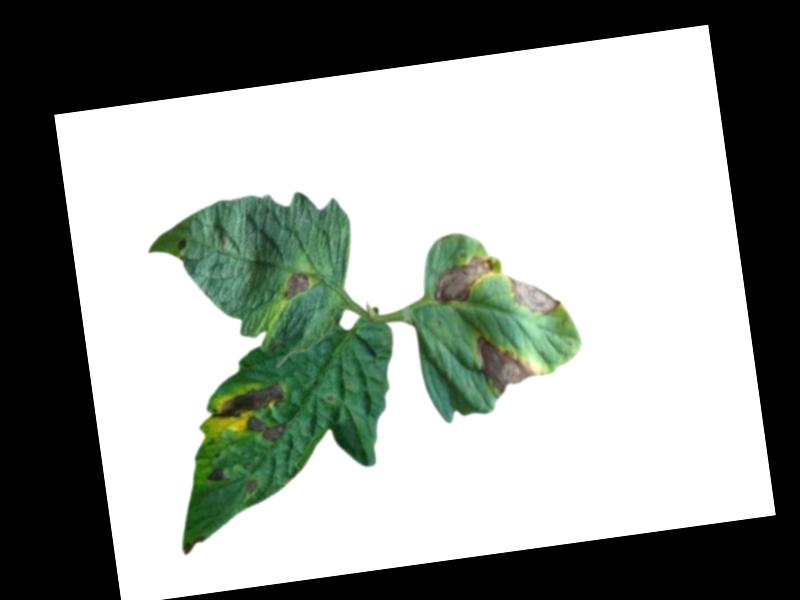Early_blight: (207, 381, 295, 450), (475, 329, 537, 397), (430, 254, 498, 310), (509, 267, 565, 321), (281, 270, 314, 300), (206, 466, 225, 485), (245, 479, 259, 495), (176, 236, 189, 253)
